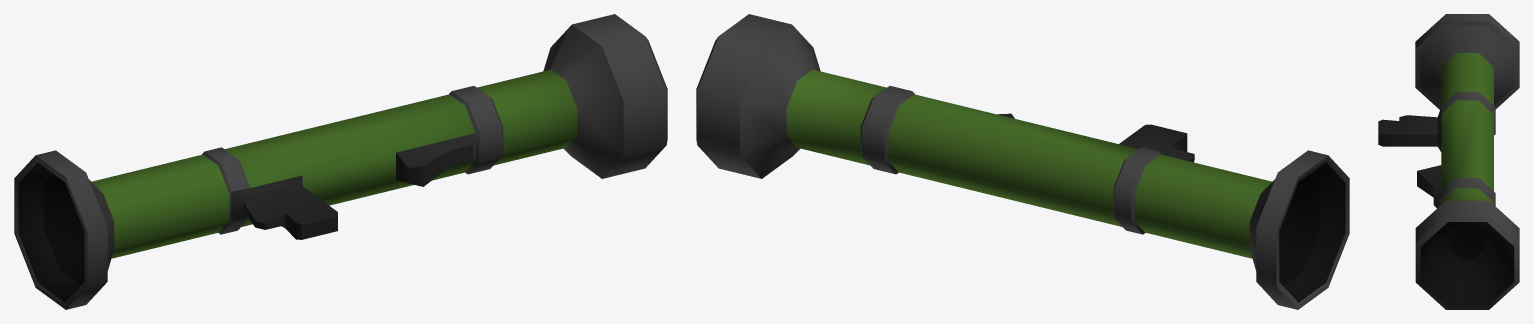
The model's file is Gun test.fbx.
3 renders of one model, left to right at view 1: azimuth 30°, elevation 25°; view 2: azimuth 150°, elevation 25°; view 3: azimuth 270°, elevation 25°, orthographic. The views are drawn at different scales.
Visible parts, largest first — view 1: Bazooka; view 2: Bazooka; view 3: Bazooka.
Boxes of the visible parts, <box> form: Bazooka: <box>14,14,667,309</box>; Bazooka: <box>696,14,1349,309</box>; Bazooka: <box>1378,14,1519,309</box>.
Bounding box in the file's own units: 1.46 × 0.3164 × 0.4292.
Materials: 1 (1 with a texture image).
